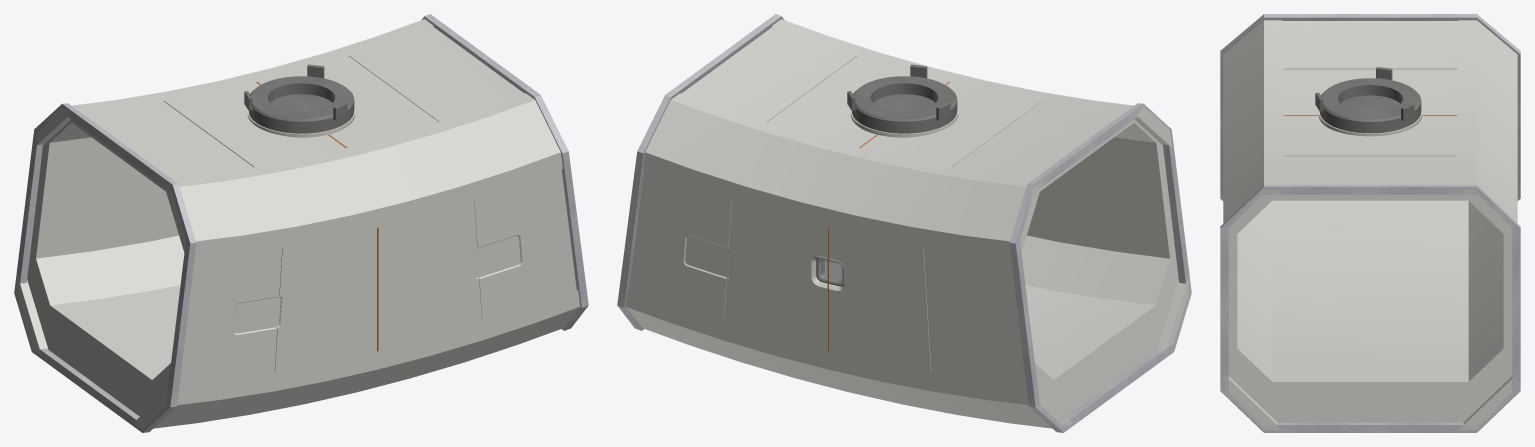
The model's file is ax_grav_06_ring_lab.glb.
3 renders of one model, left to right at view 1: azimuth 30°, elevation 25°; view 2: azimuth 150°, elevation 25°; view 3: azimuth 270°, elevation 25°, orthographic. The views are drawn at different scales.
Parts seen in each view (by area): view 1: hull, end_flanges, spoke_port, hatch_door_1, spoke_port_petals; view 2: hull, end_flanges, spoke_port, hatch_door_1, spoke_port_petals; view 3: hull, end_flanges, spoke_port, hatch_door_1, spoke_port_petals, spoke_port_pedestal.
Boxes of the visible parts, <box> form: hull: <box>16,19,580,429</box>; end_flanges: <box>14,14,588,432</box>; spoke_port: <box>249,76,354,133</box>; hatch_door_1: <box>270,94,332,111</box>; spoke_port_petals: <box>244,64,347,120</box>; hull: <box>625,19,1189,428</box>; end_flanges: <box>617,14,1191,432</box>; spoke_port: <box>852,76,957,133</box>; hatch_door_1: <box>873,94,935,111</box>; spoke_port_petals: <box>847,64,950,120</box>; hull: <box>1223,20,1517,429</box>; end_flanges: <box>1220,14,1520,432</box>; spoke_port: <box>1319,78,1421,133</box>; hatch_door_1: <box>1341,95,1399,112</box>; spoke_port_petals: <box>1315,67,1414,120</box>; spoke_port_pedestal: <box>1318,108,1422,136</box>.
Size of the model in its own units: 7.52 by 4.41 by 4.74.
5 materials, 2 textured.
